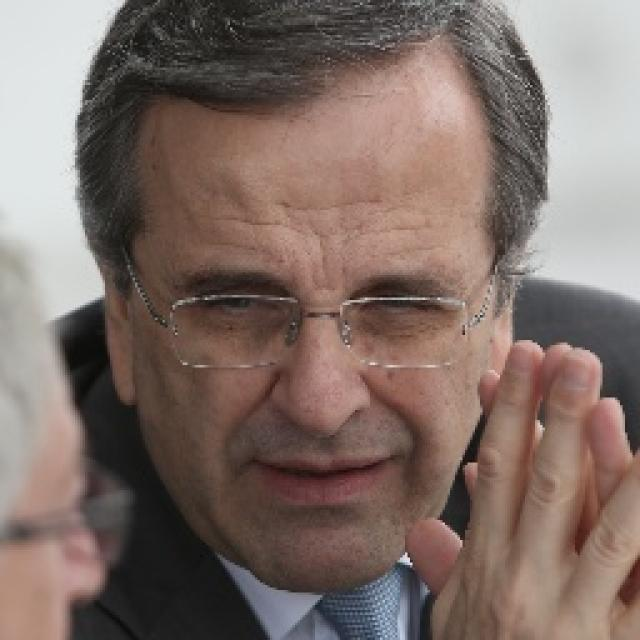earlobe: (111, 362, 137, 407)
eye: (192, 286, 280, 318), (357, 288, 440, 317)
nose: (269, 407, 376, 478)
wholeear: (105, 266, 137, 406)
